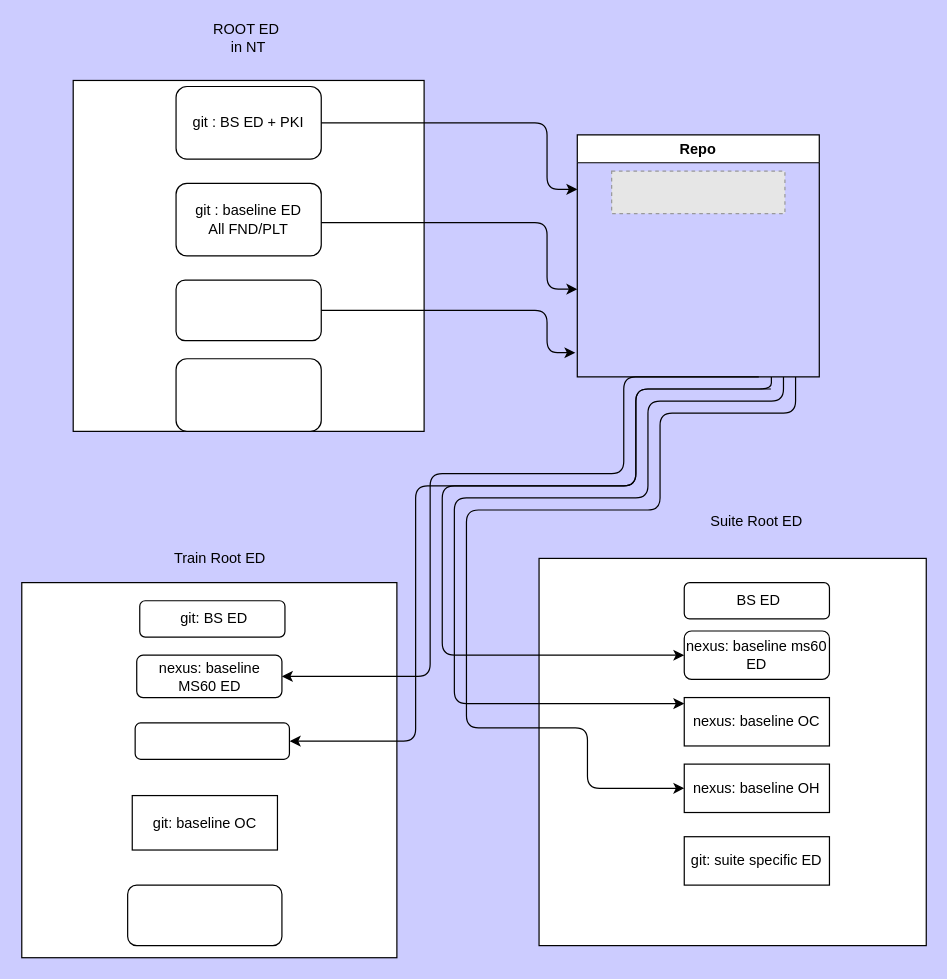
This 947x979 diagram has some shape labels left out. Grey dashed boxes stand in for pictures. Each missing label, with the centre of its shape:
"git : PLT LMT ED" belongs at pixel 248 310.
"git: GE ED" belongs at pixel 248 394.
"git: Train specific ED" belongs at pixel 204 915.
"nexus: C1 ED" belongs at pixel 211 740.
